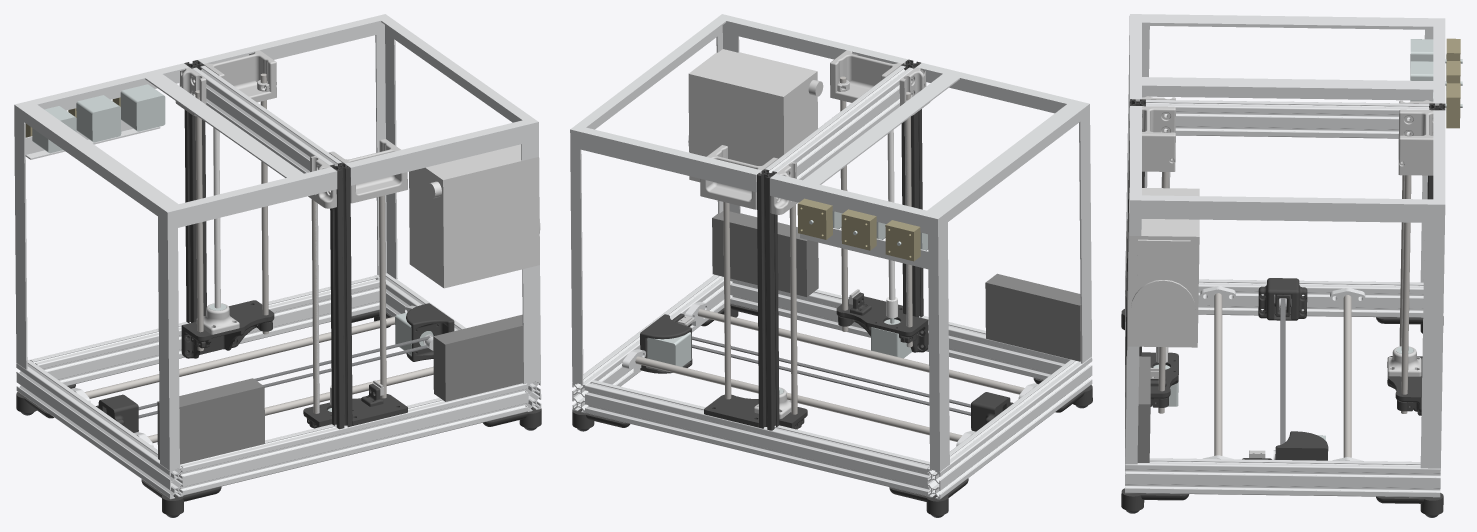
File: 3dPrinter_Frame.glb
3 views of the same model, side by side, from view 1: azimuth 30°, elevation 25°; view 2: azimuth 150°, elevation 25°; view 3: azimuth 270°, elevation 25° (orthographic). The views are drawn at different scales.
Visible parts, largest first — view 1: frame; view 2: frame; view 3: frame.
Part boxes in pixels (box(x1,y1,x2,y2)): frame: box(14, 14, 541, 517); frame: box(570, 14, 1092, 517); frame: box(1121, 14, 1462, 517).
Bounding box in the file's own units: 1.41 × 1.11 × 1.08.
